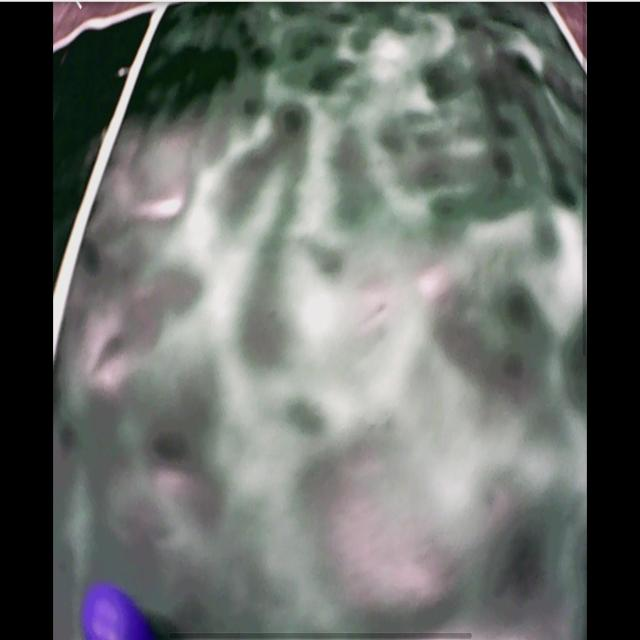ball: (81, 584, 149, 640)
